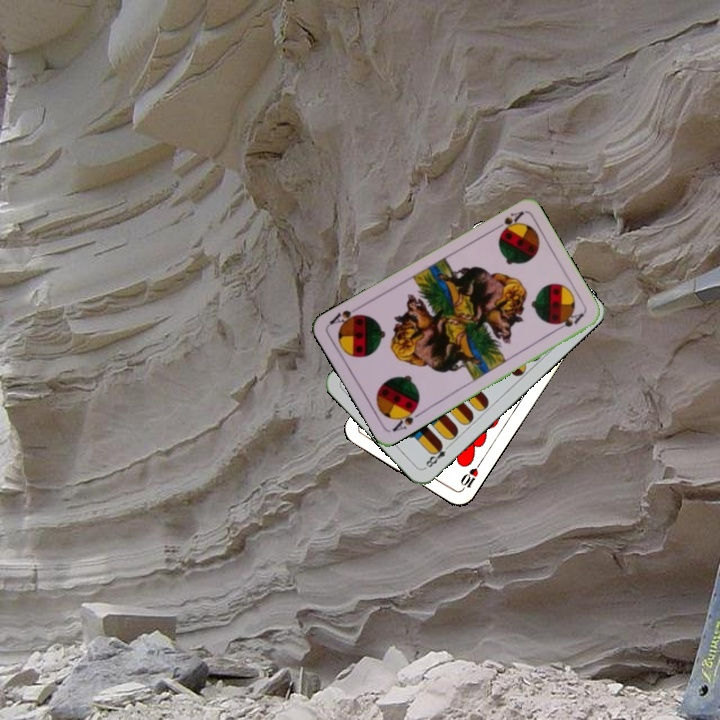E8: (421, 439, 454, 471)
H10: (456, 458, 484, 494)
SA: (388, 402, 425, 435), (488, 207, 526, 234)
